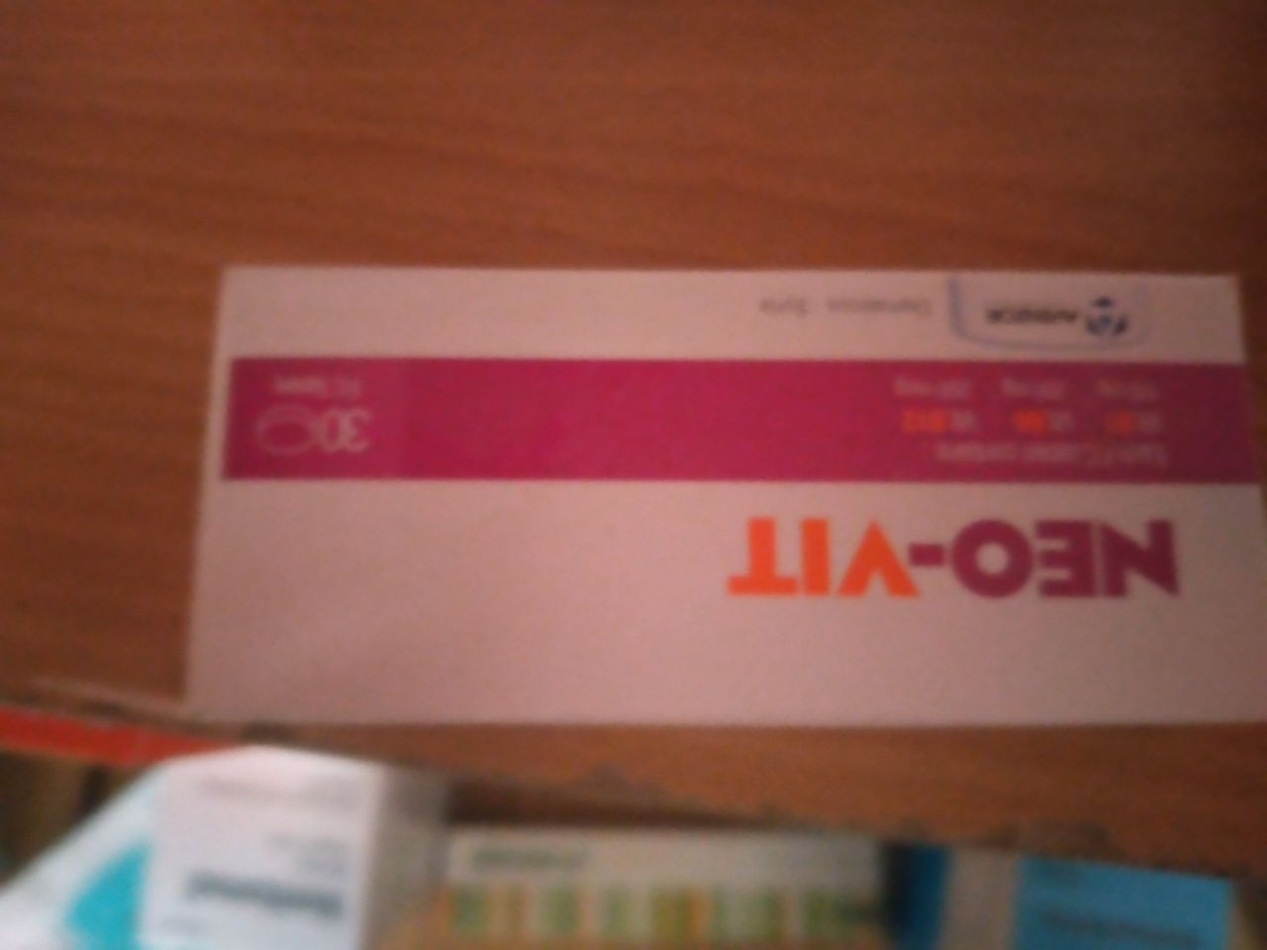Medicine: (188, 245, 1267, 745)
